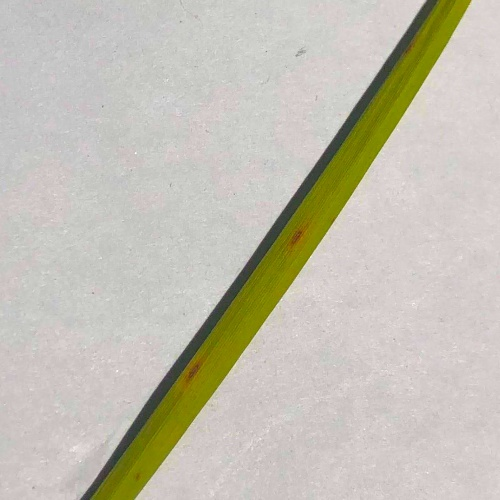Bercak Coklat: (182, 354, 208, 390), (291, 220, 315, 254)
